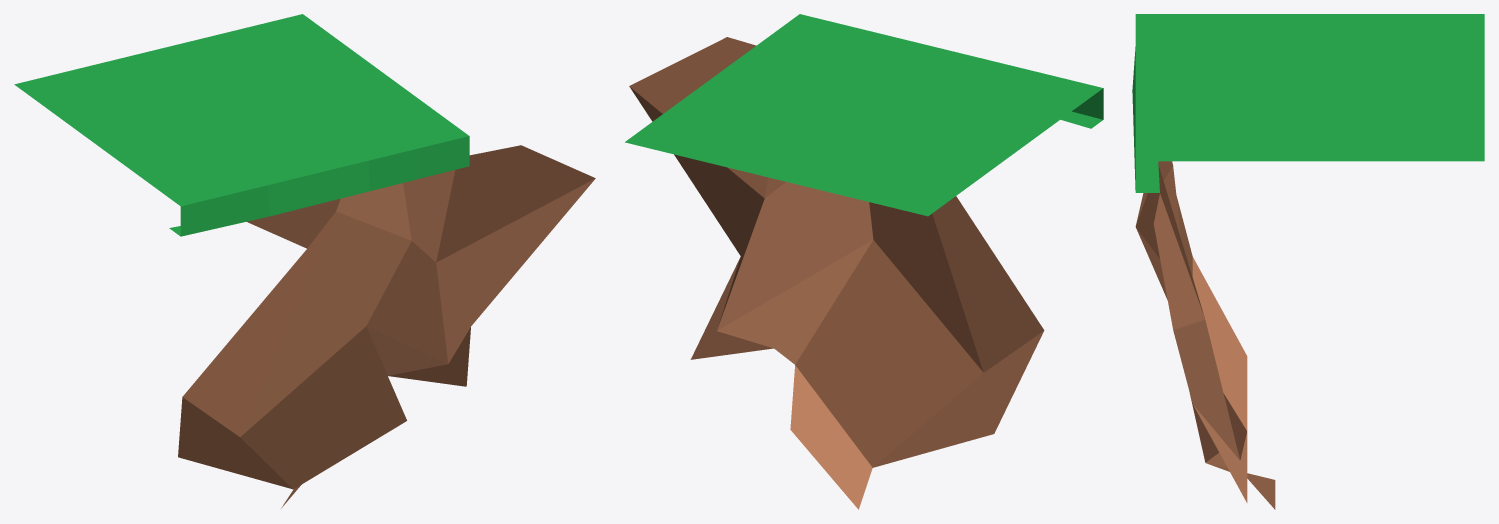
The model's file is Edge Top E.fbx.
The picture shows the model from 3 angles, left to right: view 1: azimuth 30°, elevation 25°; view 2: azimuth 150°, elevation 25°; view 3: azimuth 270°, elevation 25°; orthographic projection. The views are drawn at different scales.
Parts seen in each view (by area): view 1: Edge Top E; view 2: Edge Top E; view 3: Edge Top E.
Part boxes in pixels (<box>): Edge Top E: <box>14,14,595,508</box>; Edge Top E: <box>625,14,1103,509</box>; Edge Top E: <box>1132,14,1484,509</box>.
Bounding box in the file's own units: 75 × 65 × 50.45.
